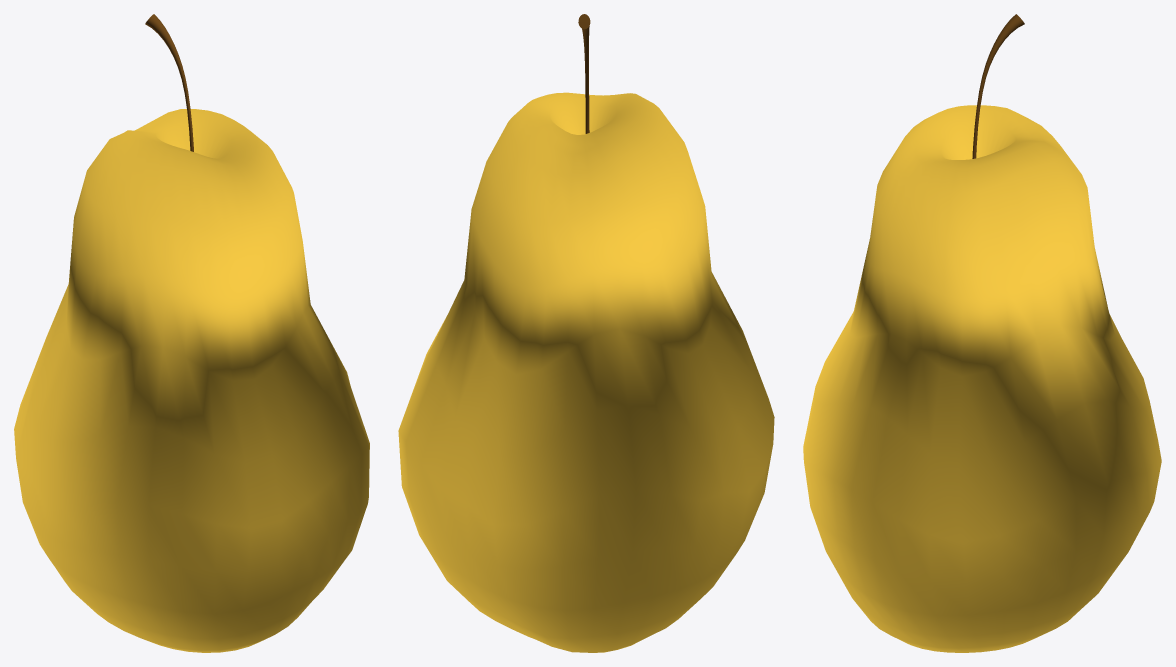
File: Pear.FBX
3 renders of one model, left to right at view 1: azimuth 30°, elevation 25°; view 2: azimuth 150°, elevation 25°; view 3: azimuth 270°, elevation 25°, orthographic. The views are drawn at different scales.
Visible parts, largest first — view 1: Apple_001; view 2: Apple_001; view 3: Apple_001.
Part boxes in pixels (<box>): Apple_001: <box>14,14,369,652</box>; Apple_001: <box>398,14,774,652</box>; Apple_001: <box>803,14,1161,652</box>.
Bounding box in the file's own units: 9.44 × 17.55 × 9.51.
1 material, 1 textured.
